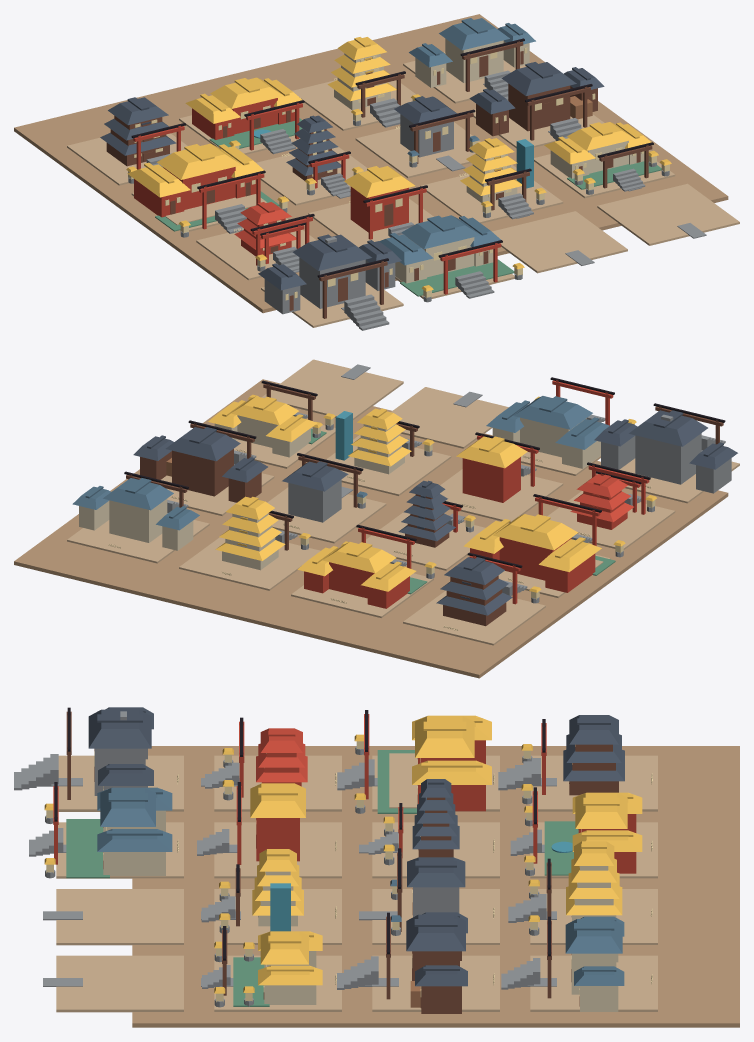
The model's file is konoha_14_sanctuaries_preview.glb.
The picture shows the model from 3 angles, top to bottom: view 1: azimuth 30°, elevation 25°; view 2: azimuth 150°, elevation 25°; view 3: azimuth 270°, elevation 25°; orthographic projection. The views are drawn at different scales.
Visible parts, largest first — view 1: preview_ground, plinth.015, plinth.011, plinth.009, plinth.010, plinth.005, plinth.008, plinth.002, plinth.006, cliff_main_body.002, plinth, main_roof.001 (+48 smaller); view 2: preview_ground, plinth.015, plinth.011, plinth.008, plinth, plinth.006, plinth.005, plinth.009, cliff_main_body.002, plinth.010, plinth.002, plinth.012 (+59 smaller); view 3: preview_ground, plinth.015, plinth.011, plinth.006, plinth.012, plinth.013, plinth.005, plinth.010, plinth.009, plinth.002, plinth.003, plinth.008 (+53 smaller).
Boxes of the visible parts, x1,y1,x2,y2 form: preview_ground: (14,14,728,313); plinth.015: (597,183,739,245); plinth.011: (492,211,627,273); plinth.009: (355,122,480,178); plinth.010: (420,164,563,223); plinth.005: (256,147,367,205); plinth.008: (292,80,415,130); plinth.002: (196,218,316,280); plinth.006: (308,198,433,247); cliff_main_body.002: (299,257,365,308); plinth: (67,133,187,185); main_roof.001: (157,143,241,179); preview_ground: (14,379,728,678); plinth.015: (261,359,403,419); plinth.011: (391,387,508,448); plinth.008: (179,537,320,590); plinth: (403,590,545,645); plinth.006: (440,469,563,522); plinth.005: (366,512,485,570); plinth.009: (267,487,386,543); cliff_main_body.002: (635,433,701,484); plinth.010: (326,435,451,495); plinth.002: (547,491,675,549); plinth.012: (67,520,209,563); preview_ground: (132,746,739,1027); plinth.015: (56,955,183,1012); plinth.011: (56,889,183,945); plinth.006: (214,822,341,878); plinth.012: (530,955,657,1011); plinth.013: (372,955,499,1011); plinth.005: (372,822,499,878); plinth.010: (214,889,341,944); plinth.009: (372,889,499,944); plinth.002: (214,755,341,811); plinth.003: (58,755,183,811); plinth.008: (530,889,657,944).
Bounding box in the file's own units: 54 × 7 × 59.74.
